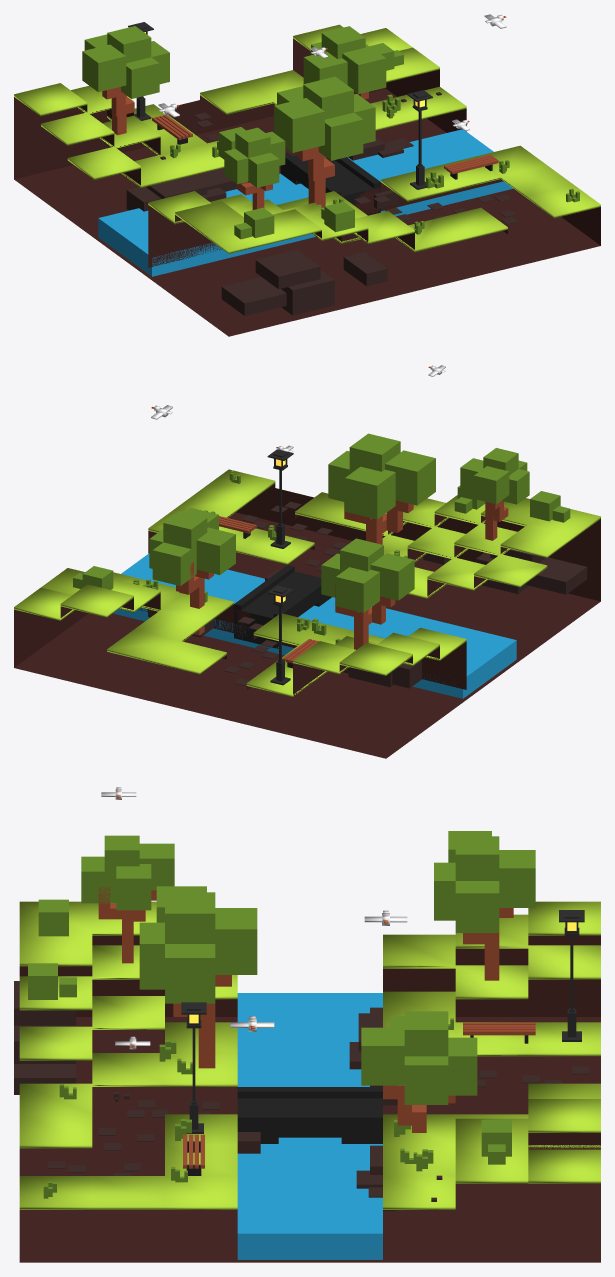
The model's file is sandplay-island.glb.
3 views of the same model, one above another, from view 1: azimuth 30°, elevation 25°; view 2: azimuth 150°, elevation 25°; view 3: azimuth 270°, elevation 25° (orthographic). The views are drawn at different scales.
Visible parts, largest first — view 1: Ground_Web, Grass_Web, Water_Web, Tree_Web, Tree.002_Web, Tree.001_Web, Tree.003_Web, Bridge_Web, Stone.001_Web, Stone.002_Web, Stone_Web, Rock.003_Web (+9 smaller); view 2: Ground_Web, Grass_Web, Water_Web, Tree_Web, Tree.002_Web, Tree.001_Web, Tree.003_Web, Bridge_Web, Tiles_Web, Stone.002_Web, Grass.003_Web, Lamp_Web (+3 smaller); view 3: Grass_Web, Ground_Web, Water_Web, Tree_Web, Tree.001_Web, Tree.002_Web, Bridge_Web, Tree.003_Web, Tiles_Web, Grass.002_Web, Stone.003_Web, Grass.001_Web (+6 smaller).
Boxes of the visible parts, bbox=[...] form: Ground_Web: bbox=[14, 38, 600, 336]; Grass_Web: bbox=[14, 24, 600, 253]; Water_Web: bbox=[98, 129, 513, 276]; Tree_Web: bbox=[274, 76, 375, 207]; Tree.002_Web: bbox=[82, 26, 169, 135]; Tree.001_Web: bbox=[303, 26, 386, 99]; Tree.003_Web: bbox=[218, 127, 285, 209]; Bridge_Web: bbox=[280, 152, 380, 215]; Stone.001_Web: bbox=[255, 249, 320, 289]; Stone.002_Web: bbox=[221, 277, 286, 315]; Stone_Web: bbox=[281, 270, 334, 315]; Rock.003_Web: bbox=[126, 168, 249, 211]; Ground_Web: bbox=[14, 483, 600, 758]; Grass_Web: bbox=[14, 469, 600, 696]; Water_Web: bbox=[113, 553, 516, 698]; Tree_Web: bbox=[328, 433, 435, 544]; Tree.002_Web: bbox=[321, 538, 414, 649]; Tree.001_Web: bbox=[149, 508, 235, 635]; Tree.003_Web: bbox=[460, 448, 529, 540]; Bridge_Web: bbox=[234, 565, 331, 648]; Tiles_Web: bbox=[224, 501, 347, 685]; Stone.002_Web: bbox=[525, 557, 587, 594]; Grass.003_Web: bbox=[530, 491, 570, 522]; Lamp_Web: bbox=[267, 449, 293, 548]; Grass_Web: bbox=[19, 901, 600, 1209]; Ground_Web: bbox=[19, 935, 600, 1262]; Water_Web: bbox=[237, 993, 382, 1259]; Tree_Web: bbox=[139, 886, 257, 1068]; Tree.001_Web: bbox=[361, 1011, 477, 1132]; Tree.002_Web: bbox=[434, 831, 535, 980]; Bridge_Web: bbox=[237, 1087, 382, 1143]; Tree.003_Web: bbox=[81, 835, 174, 963]; Tiles_Web: bbox=[48, 1066, 589, 1175]; Grass.002_Web: bbox=[28, 963, 76, 999]; Stone.003_Web: bbox=[14, 1064, 76, 1094]; Grass.001_Web: bbox=[481, 1119, 511, 1164].
Size of the model in its own units: 8 by 4.72 by 8.08.
